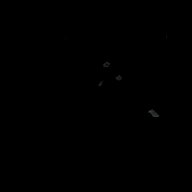v: (94, 60, 122, 85)
